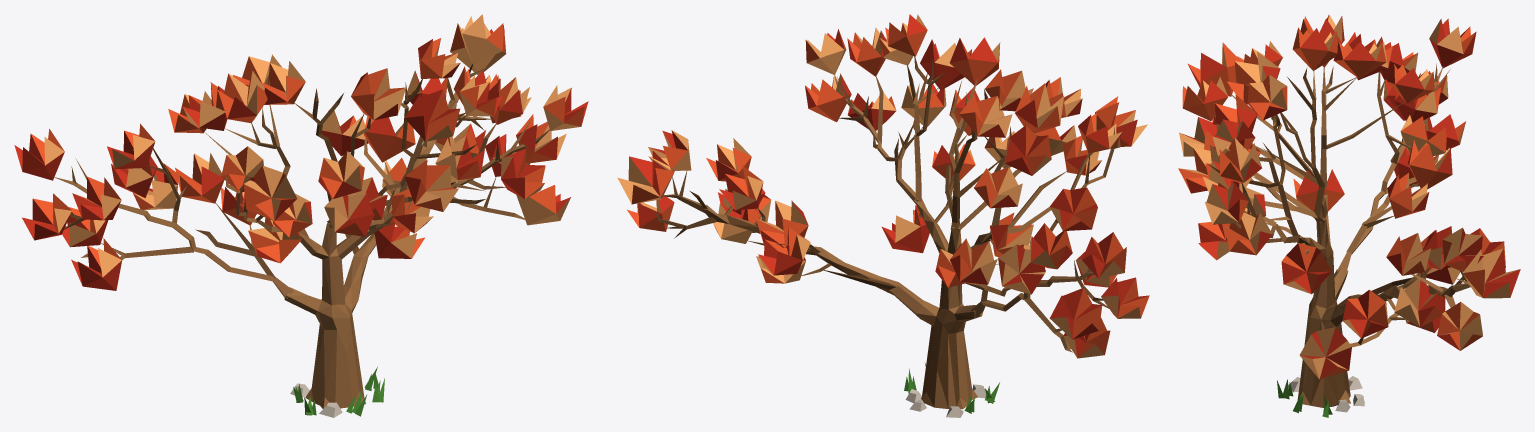
The model's file is magnolia_autumn.glb.
The picture shows the model from 3 angles, left to right: view 1: azimuth 30°, elevation 25°; view 2: azimuth 150°, elevation 25°; view 3: azimuth 270°, elevation 25°; orthographic projection. The views are drawn at different scales.
Parts seen in each view (by area): view 1: magnolia_autumn; view 2: magnolia_autumn; view 3: magnolia_autumn.
Part boxes in pixels (box(x1,y1,x2,y2)): magnolia_autumn: box(14, 14, 588, 417); magnolia_autumn: box(617, 14, 1149, 417); magnolia_autumn: box(1178, 14, 1520, 417).
Bounding box in the file's own units: 10.4 × 7.04 × 6.13.
